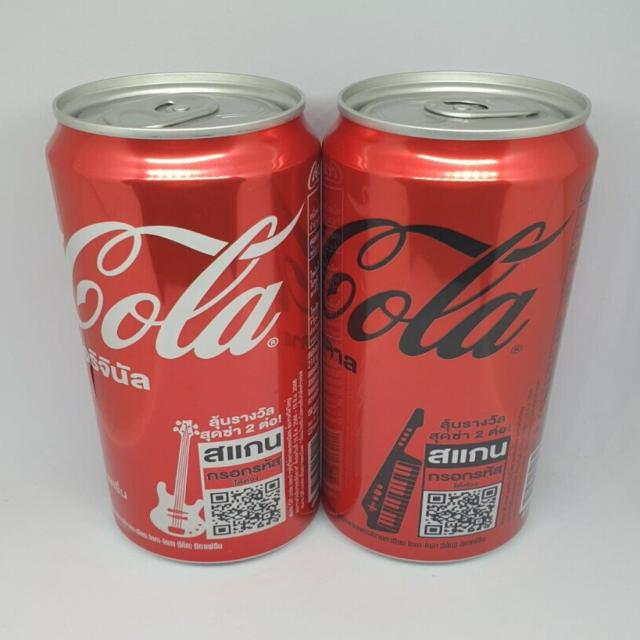cocacola: (47, 72, 319, 575), (332, 56, 563, 551)
